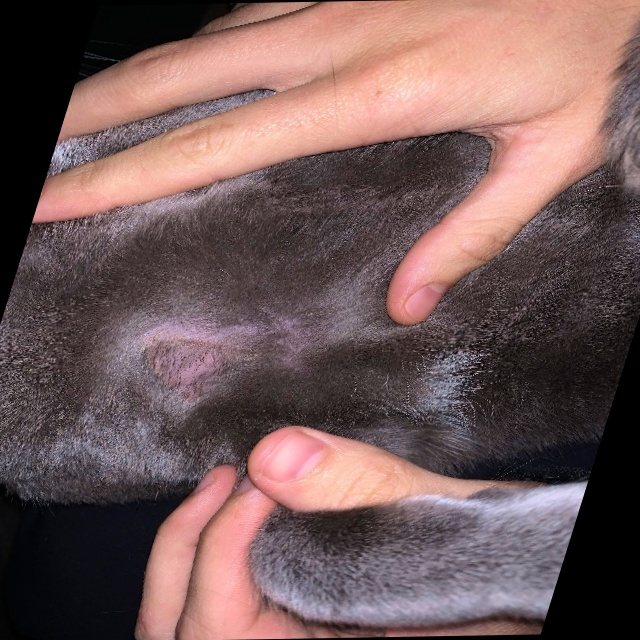hairloss: (107, 319, 264, 414)
